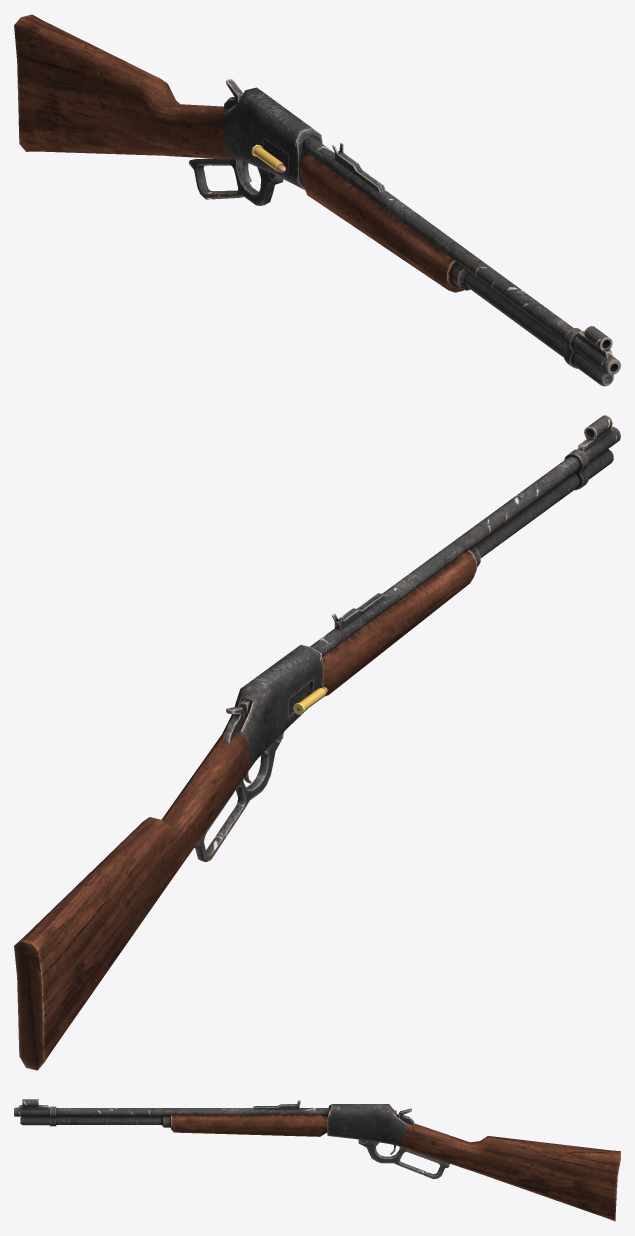
File: Winchester_30_30.fbx
The picture shows the model from 3 angles, top to bottom: view 1: azimuth 30°, elevation 25°; view 2: azimuth 150°, elevation 25°; view 3: azimuth 270°, elevation 25°; orthographic projection. The views are drawn at different scales.
Parts seen in each view (by area): view 1: fusil, levier; view 2: fusil, levier; view 3: fusil, levier.
Boxes of the visible parts, <box> form: fusil: <box>14,14,620,386</box>; levier: <box>189,158,283,205</box>; fusil: <box>14,415,620,1070</box>; levier: <box>194,735,283,861</box>; fusil: <box>14,1099,620,1221</box>; levier: <box>358,1140,449,1179</box>.
Bounding box in the file's own units: 39.31 × 214 × 976.
